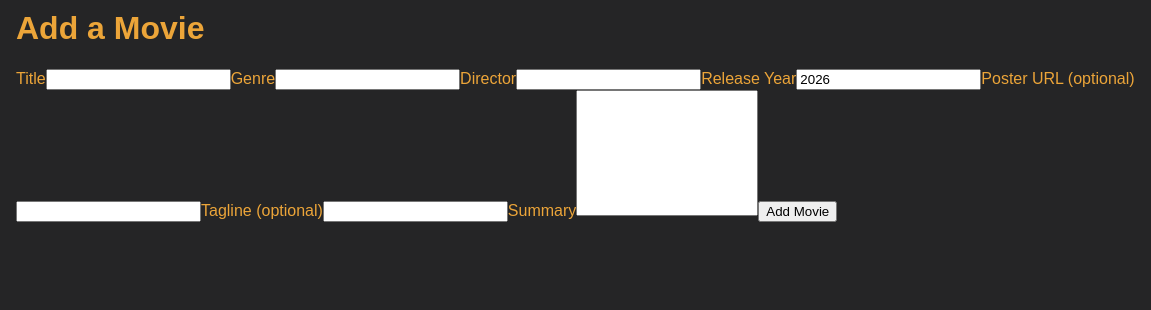
Test: AddMoviePage › shows an inline error message when creation fails
Type "x" into the field labelled "Title" at (138, 79), box [46, 69, 231, 90]
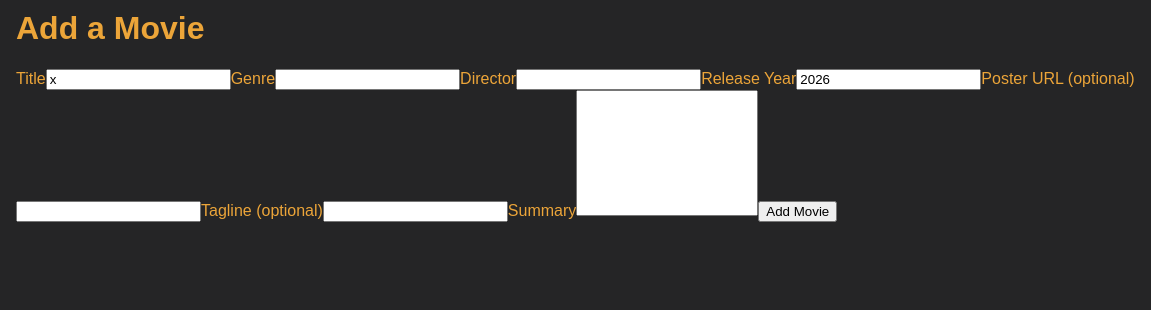
Type "x" into the field labelled "Genre" at (368, 79), box [275, 69, 460, 90]
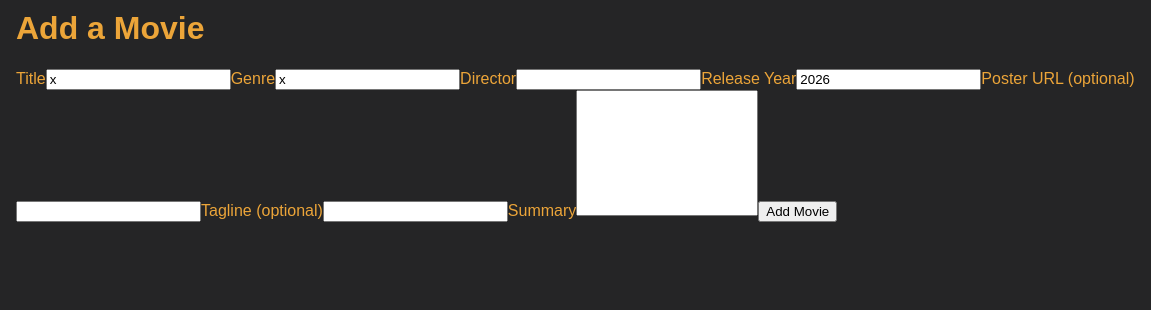
Type "x" into the field labelled "Director" at (609, 79), box [516, 69, 701, 90]
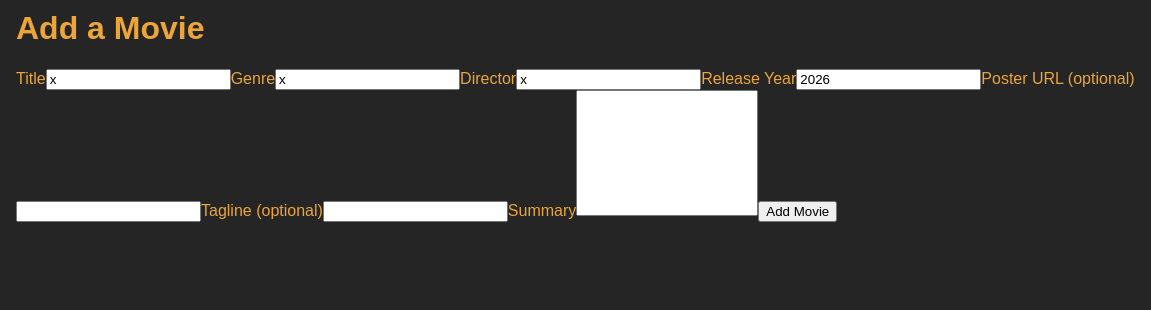
Type "x" into the text box labelled "Summary" at (667, 153), box [576, 90, 758, 216]
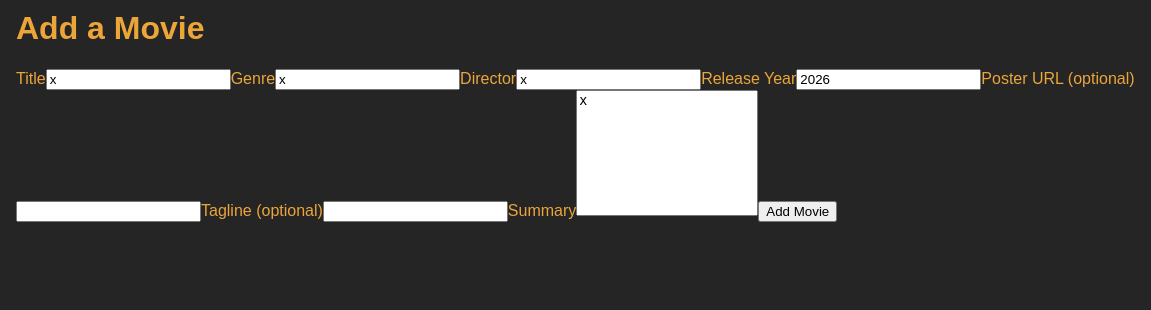
Click the button "Add Movie" at (798, 211), box [758, 201, 837, 222]
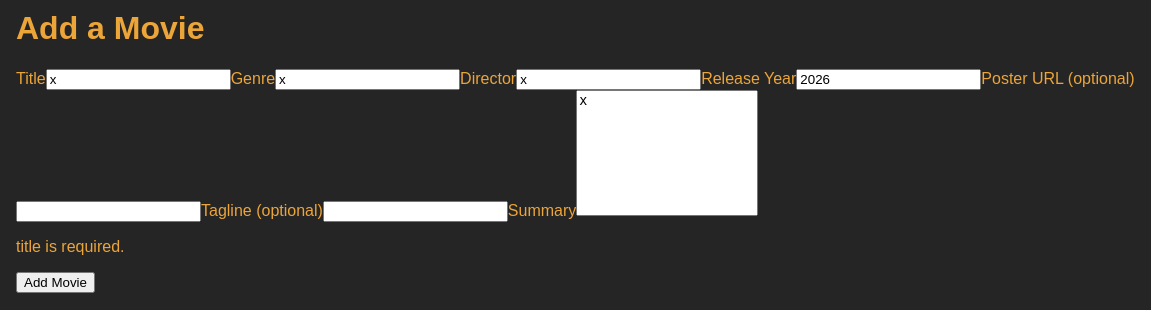
Expected: the text "title is required." is shown, [16, 238, 124, 255]
